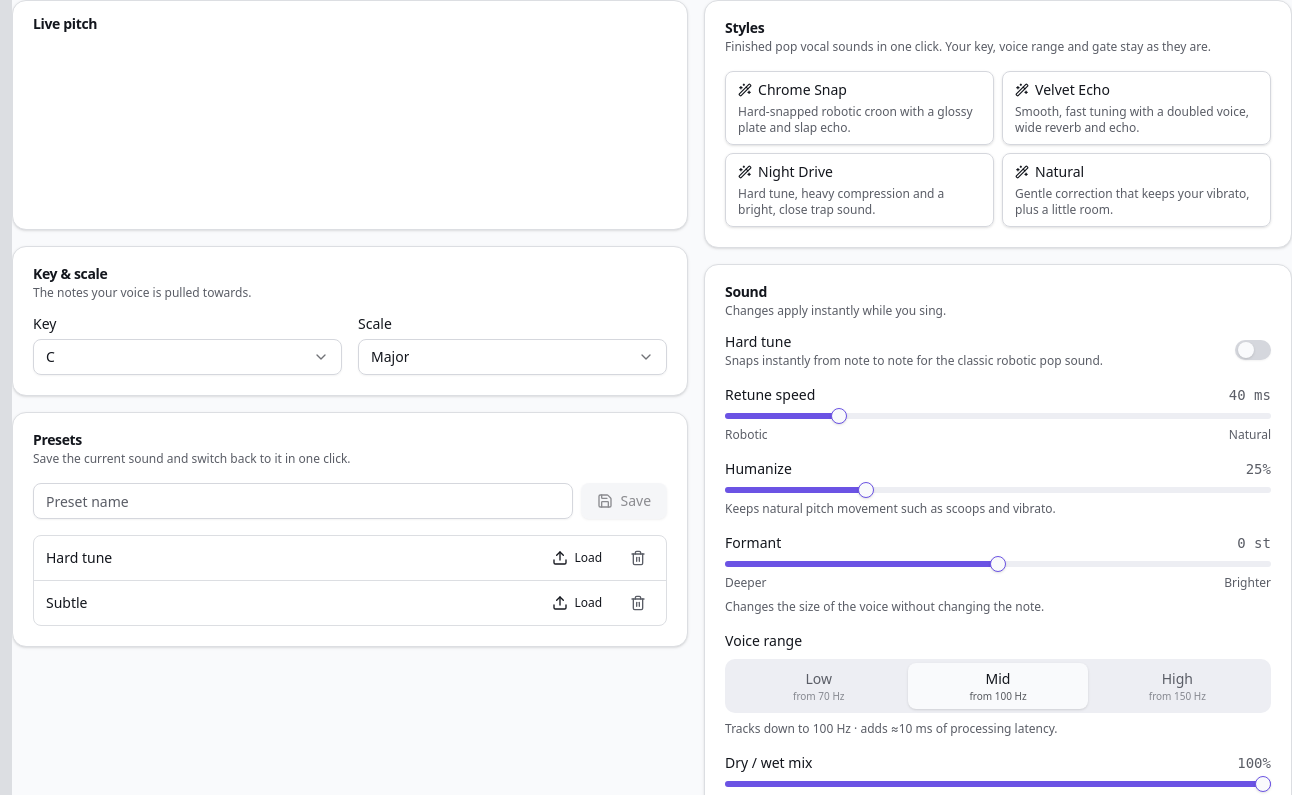
Test case: TunePanel (FR-06 – FR-11) › FR-08: choosing a voice range sends only { voiceRange }
The width and height of the screenshot is (1292, 795).
Expected: the dropdown named "Key" is shown, [33, 339, 342, 375]
Expected: the text "Tracks down to 100 Hz · adds ≈10 ms of processing latency." is shown, [725, 720, 1058, 737]
Click the radio button with aria-label "Low voice range" at (819, 686), box [729, 663, 908, 709]
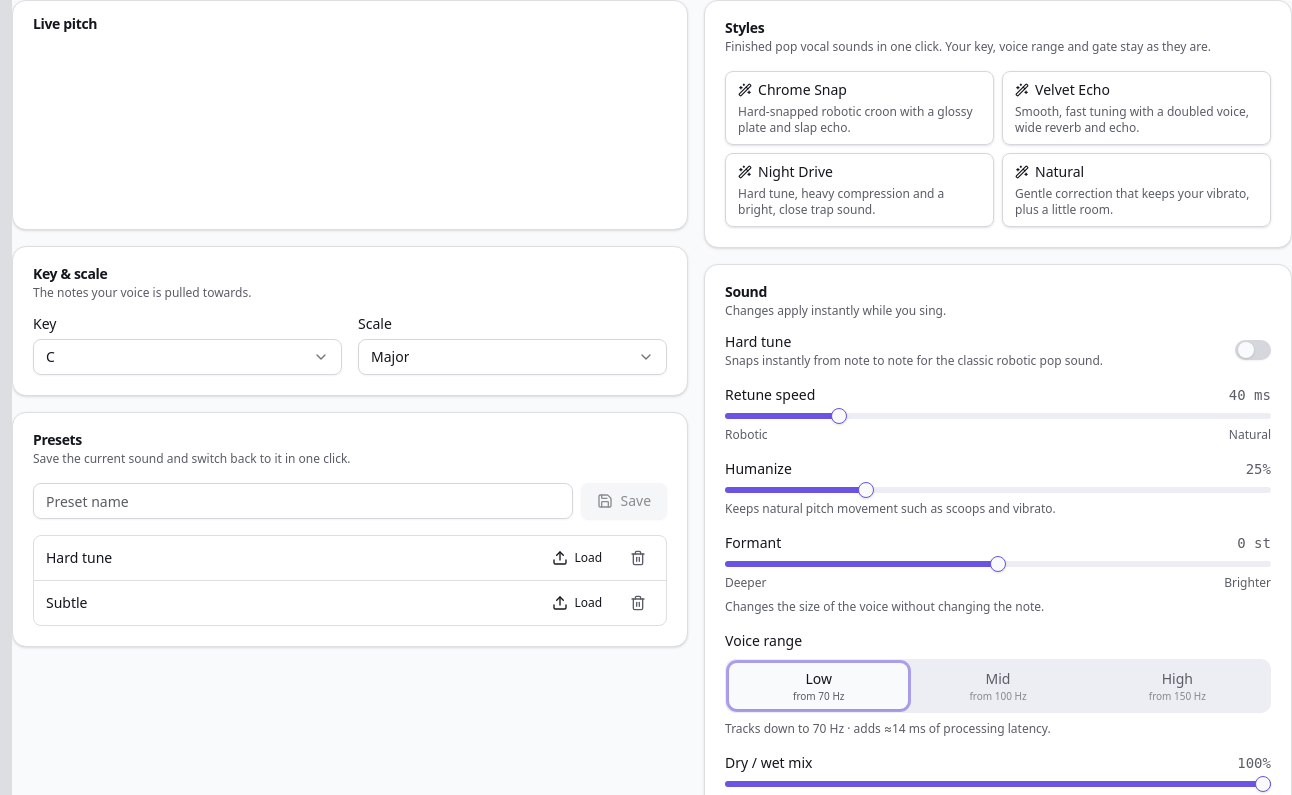
Expected: the text "Tracks down to 70 Hz · adds ≈14 ms of processing latency." is shown, [725, 720, 1051, 737]
